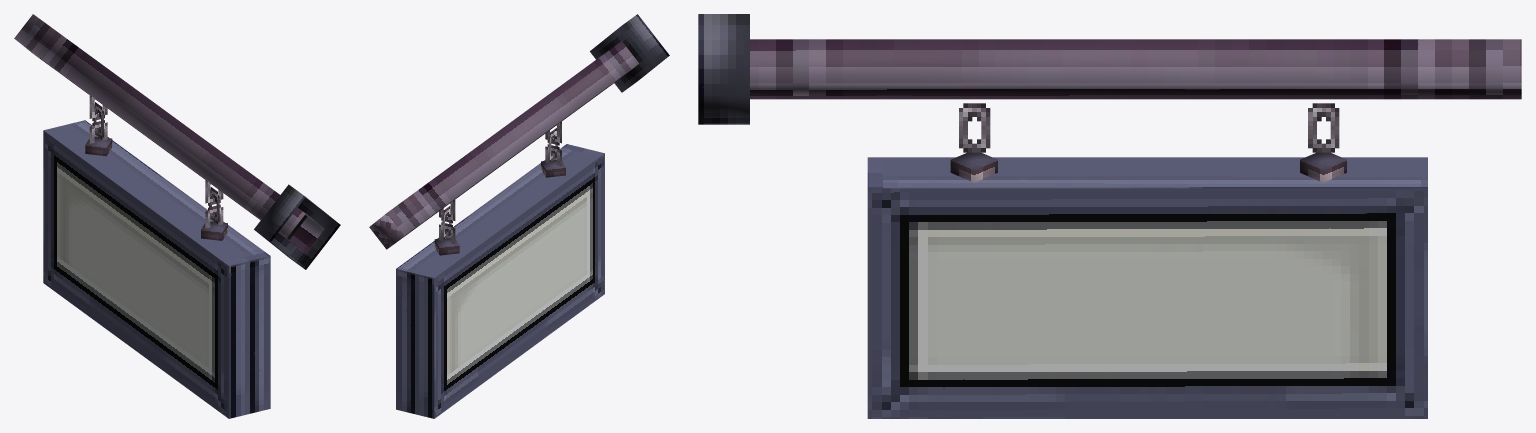
The model's file is a_SCsign03.glb.
3 renders of one model, left to right at view 1: azimuth 30°, elevation 25°; view 2: azimuth 150°, elevation 25°; view 3: azimuth 270°, elevation 25°, orthographic. The views are drawn at different scales.
Visible parts, largest first — view 1: a_SCsign03; view 2: a_SCsign03; view 3: a_SCsign03.
Boxes of the visible parts, x1,y1,x2,y2 form: a_SCsign03: [14, 14, 340, 418]; a_SCsign03: [369, 14, 669, 418]; a_SCsign03: [698, 14, 1521, 418].
Bounding box in the file's own units: 0.121 × 0.4264 × 0.8169.
Materials: 1 (1 with a texture image).
